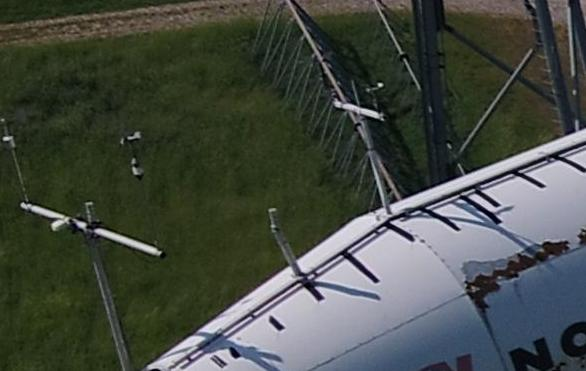damage: (464, 240, 569, 312), (578, 227, 586, 245)
